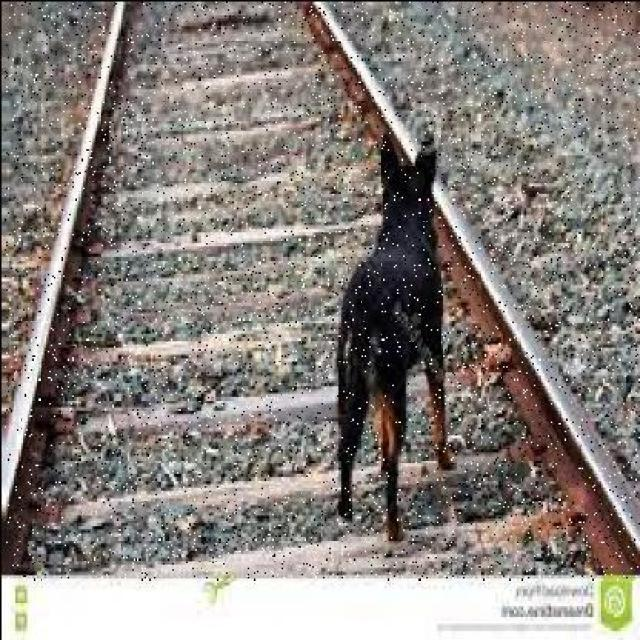rail: (4, 1, 640, 579)
